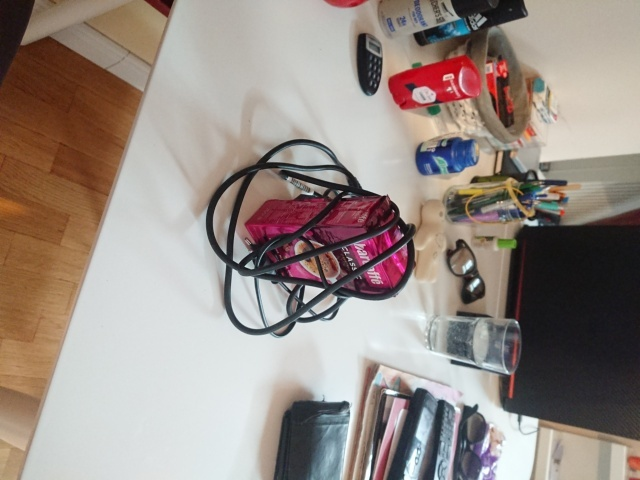Barcaffe Classic Original 225g: (242, 193, 419, 301)
